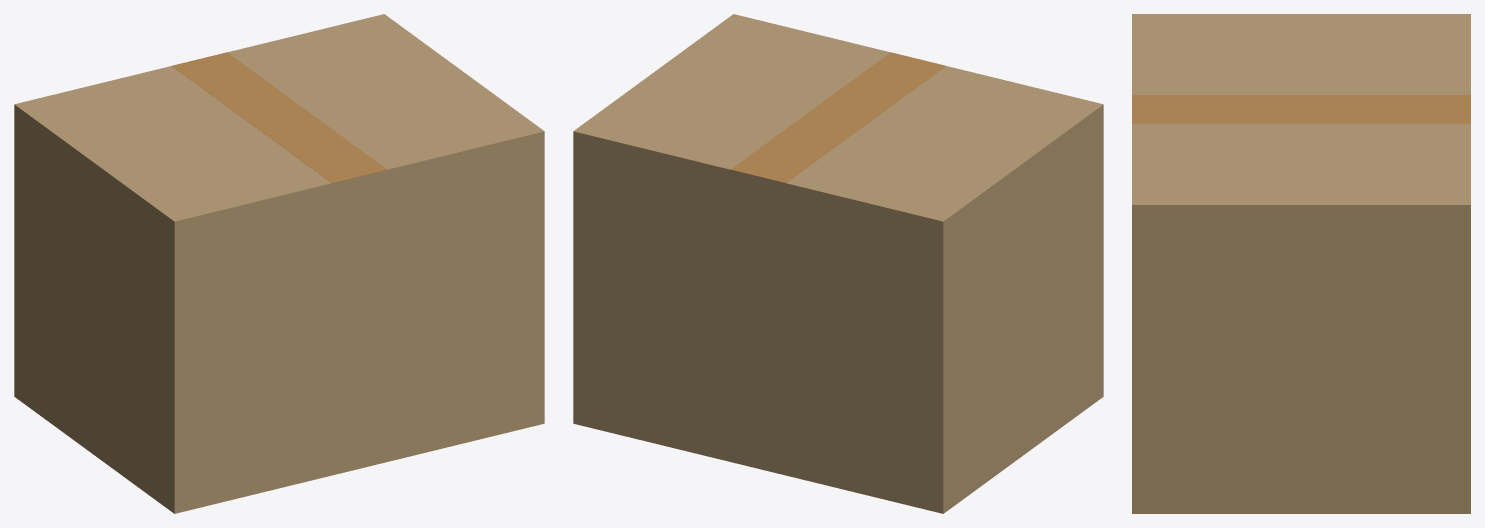
Rendered from paper.glb.
3 views of the same model, side by side, from view 1: azimuth 30°, elevation 25°; view 2: azimuth 150°, elevation 25°; view 3: azimuth 270°, elevation 25° (orthographic). The views are drawn at different scales.
Parts seen in each view (by area): view 1: LongWall_1, ClosedTop, EndWall_-1, TopSealTape, CartonBottom, LongWall_-1; view 2: LongWall_-1, ClosedTop, EndWall_-1, TopSealTape, CartonBottom, LongWall_1; view 3: EndWall_1, ClosedTop, TopSealTape, LongWall_-1, LongWall_1, CartonBottom.
Boxes of the visible parts, x1=… form: LongWall_1: x1=172, y1=133, x2=544, y2=510; ClosedTop: x1=14, y1=14, x2=544, y2=224; EndWall_-1: x1=16, y1=108, x2=172, y2=508; TopSealTape: x1=172, y1=52, x2=386, y2=182; CartonBottom: x1=14, y1=393, x2=544, y2=513; LongWall_-1: x1=14, y1=106, x2=16, y2=393; LongWall_-1: x1=573, y1=133, x2=945, y2=510; ClosedTop: x1=573, y1=14, x2=1103, y2=224; EndWall_-1: x1=945, y1=108, x2=1101, y2=508; TopSealTape: x1=731, y1=52, x2=945, y2=182; CartonBottom: x1=573, y1=393, x2=1103, y2=513; LongWall_1: x1=1101, y1=106, x2=1103, y2=393; EndWall_1: x1=1136, y1=207, x2=1466, y2=509; ClosedTop: x1=1132, y1=14, x2=1470, y2=208; TopSealTape: x1=1132, y1=95, x2=1470, y2=123; LongWall_-1: x1=1466, y1=207, x2=1470, y2=509; LongWall_1: x1=1132, y1=207, x2=1136, y2=509; CartonBottom: x1=1132, y1=510, x2=1470, y2=513.
Size of what is drawn, in the model's own units: 0.32 by 0.2416 by 0.24.
